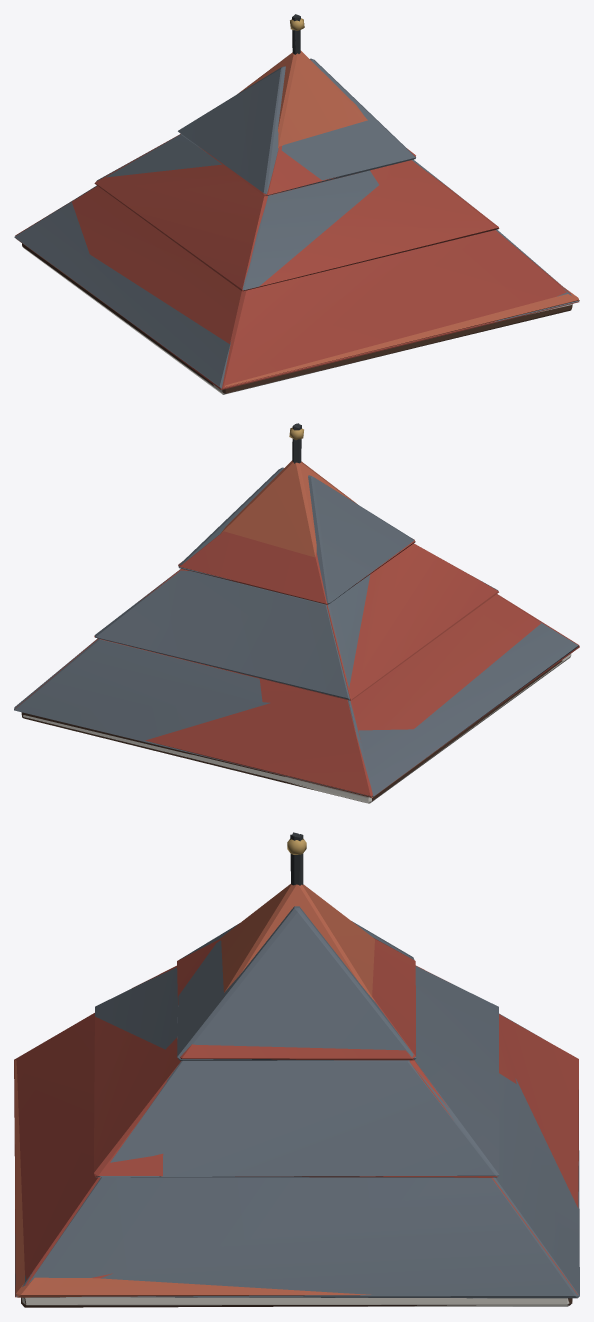
File: roof.hip.glb
3 views of the same model, one above another, from view 1: azimuth 30°, elevation 25°; view 2: azimuth 150°, elevation 25°; view 3: azimuth 270°, elevation 25° (orthographic). The views are drawn at different scales.
Parts seen in each view (by area): view 1: roof.hip.v0.mesh, roof.hip.v1.mesh, roof.hip.v2.mesh; view 2: roof.hip.v1.mesh, roof.hip.v0.mesh, roof.hip.v2.mesh; view 3: roof.hip.v1.mesh, roof.hip.v0.mesh, roof.hip.v2.mesh.
Boxes of the visible parts, x1,y1,x2,y2 form: roof.hip.v0.mesh: (15, 16, 579, 394); roof.hip.v1.mesh: (14, 58, 579, 393); roof.hip.v2.mesh: (15, 14, 578, 393); roof.hip.v1.mesh: (14, 467, 578, 802); roof.hip.v0.mesh: (15, 424, 579, 803); roof.hip.v2.mesh: (208, 423, 469, 800); roof.hip.v1.mesh: (15, 906, 579, 1307); roof.hip.v0.mesh: (14, 832, 578, 1306); roof.hip.v2.mesh: (14, 834, 568, 1306).
Size of the model in its own units: 2.49 by 1.74 by 2.49.
